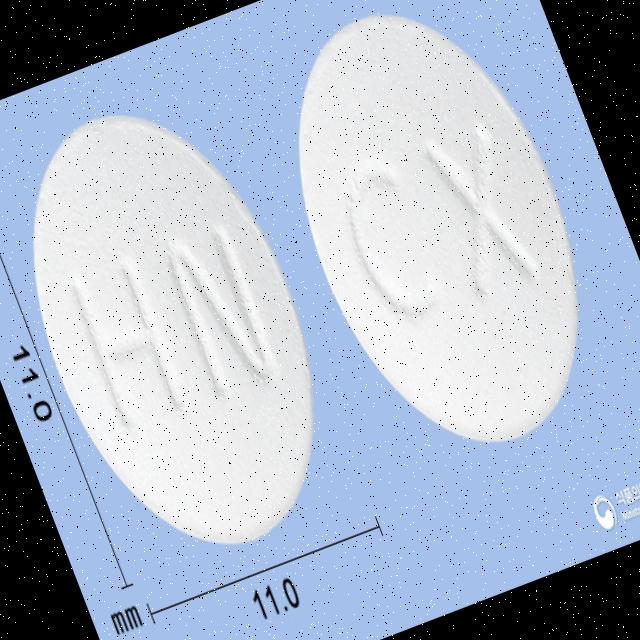Cipron: (239, 0, 640, 490), (0, 71, 374, 589)
